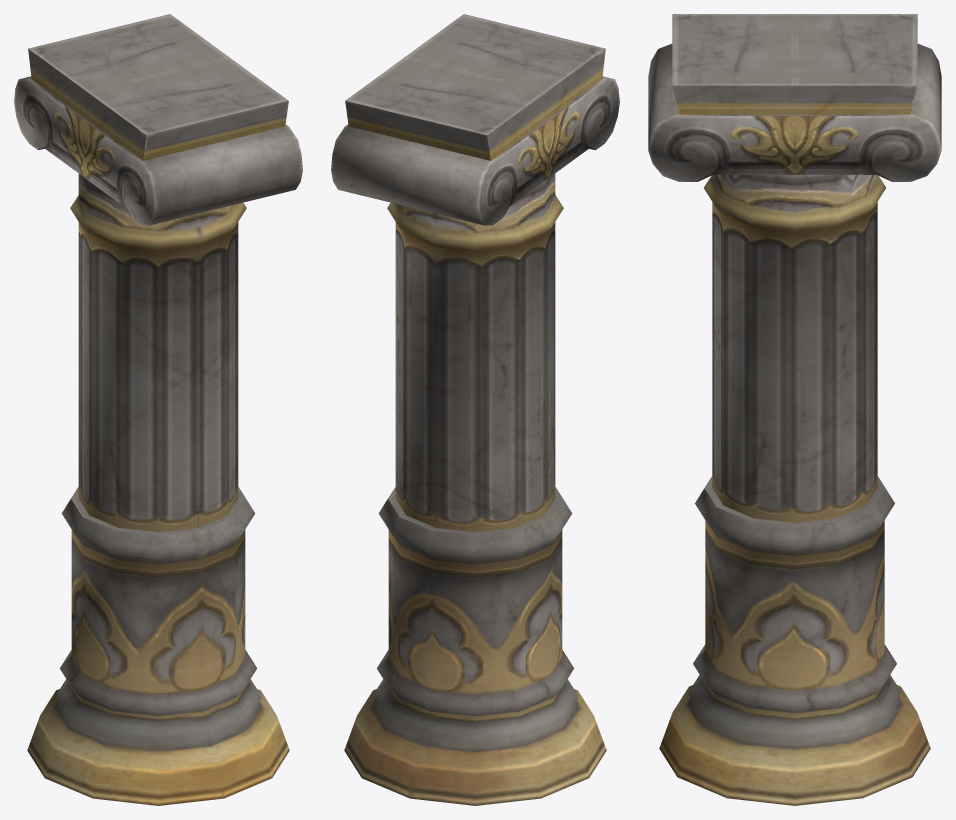
The model's file is Main_Pillars_06.FBX.
The picture shows the model from 3 angles, left to right: view 1: azimuth 30°, elevation 25°; view 2: azimuth 150°, elevation 25°; view 3: azimuth 270°, elevation 25°; orthographic projection. The views are drawn at different scales.
Visible parts, largest first — view 1: Main_Pillars_06; view 2: Main_Pillars_06; view 3: Main_Pillars_06.
Boxes of the visible parts, left/top/right/bottom form: Main_Pillars_06: left=14, top=14, right=302, bottom=805; Main_Pillars_06: left=331, top=14, right=619, bottom=805; Main_Pillars_06: left=648, top=14, right=941, bottom=805.
Bounding box in the file's own units: 1.71 × 4.86 × 1.85.
